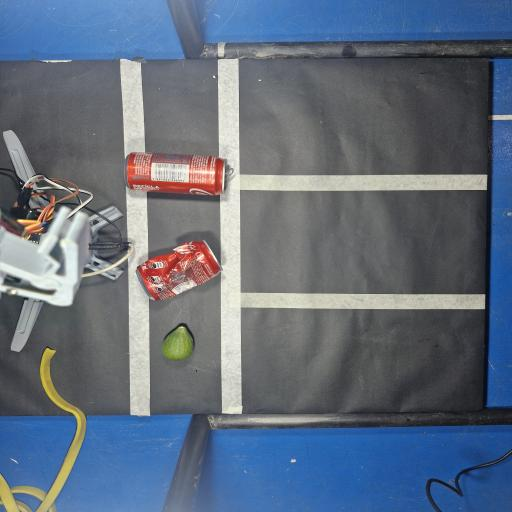lata: (125, 153, 226, 195)
